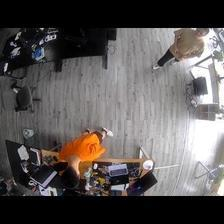normal: (62, 126, 113, 187), (153, 28, 210, 71)
